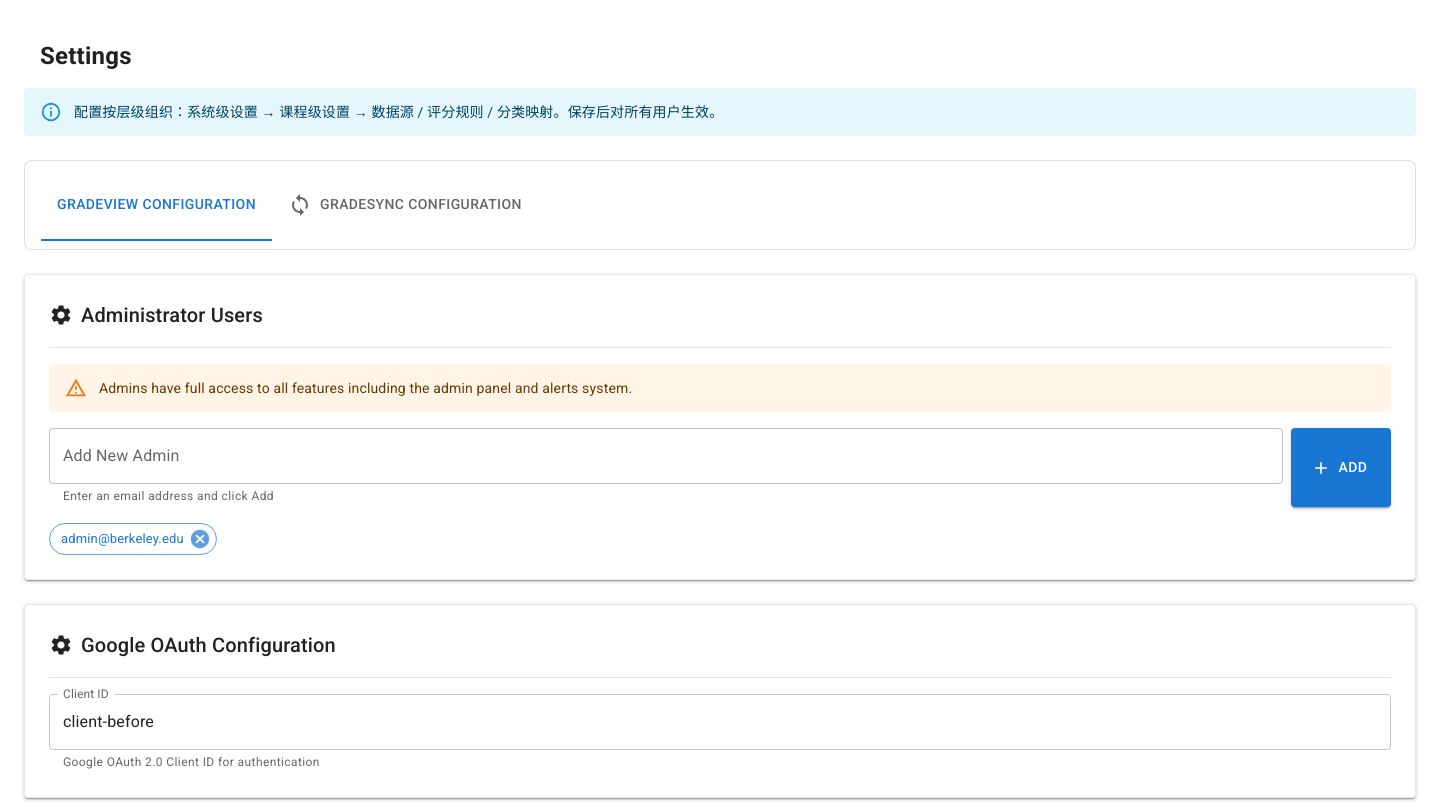
Scenario: Settings request and capability states › allows a normal staff user to update and save loaded configuration
Replace the text in the field labelled "Client ID" with "client-after" at (720, 722), box [49,694,1391,750]
(page scrolled)
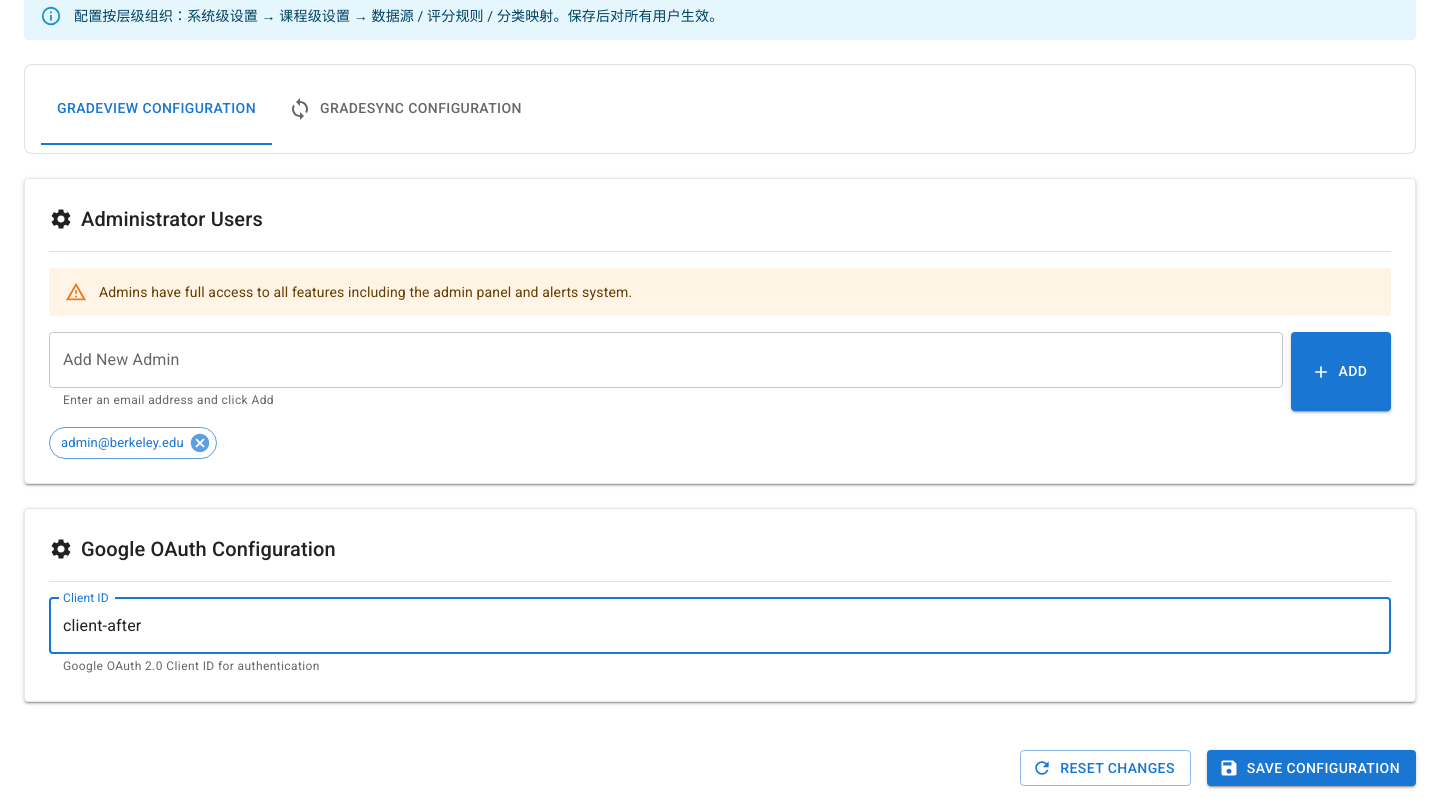
Click the button "Save Configuration" at (1311, 768), box [1207,750,1416,786]
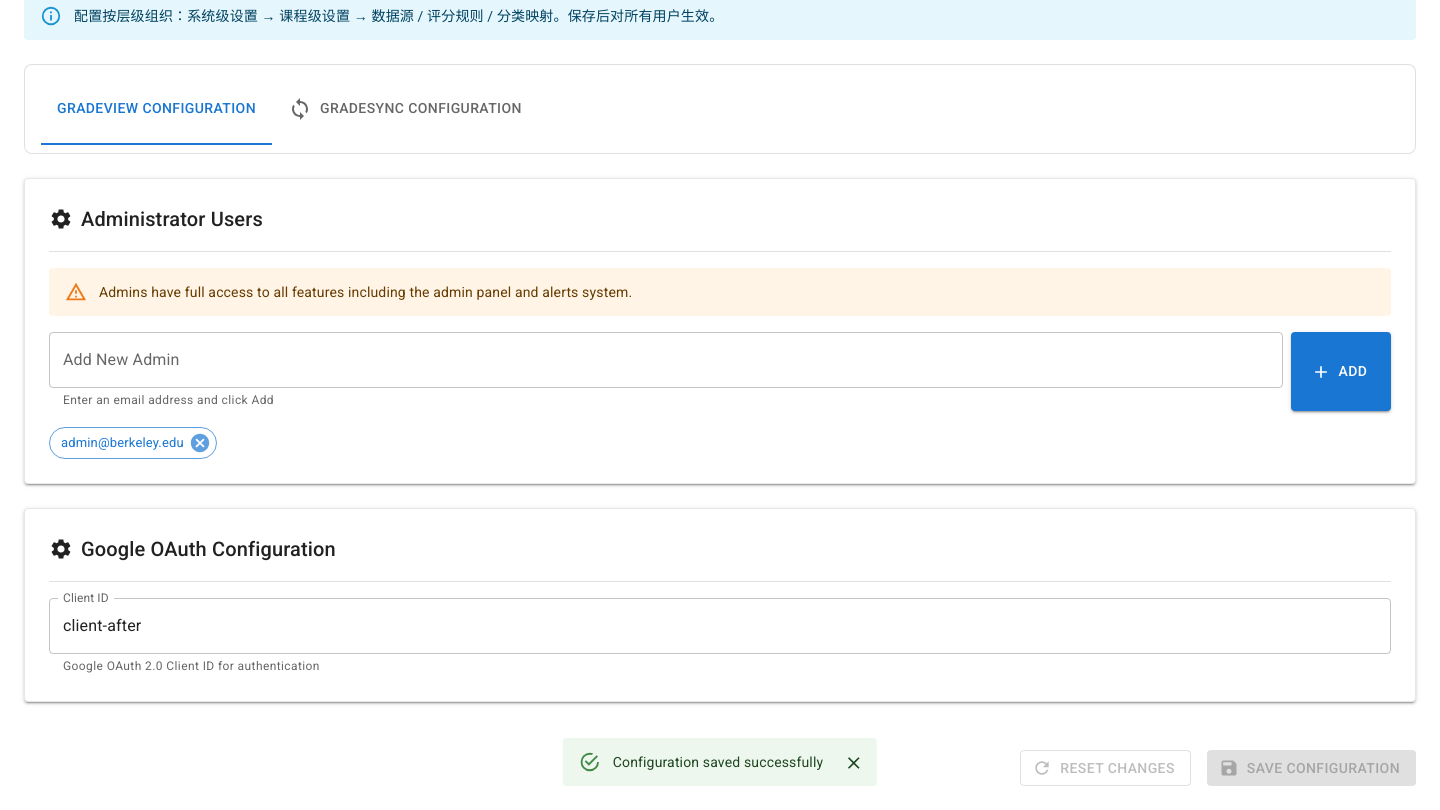
Now the text "Configuration saved successfully" is shown, box [613,754,823,770]
